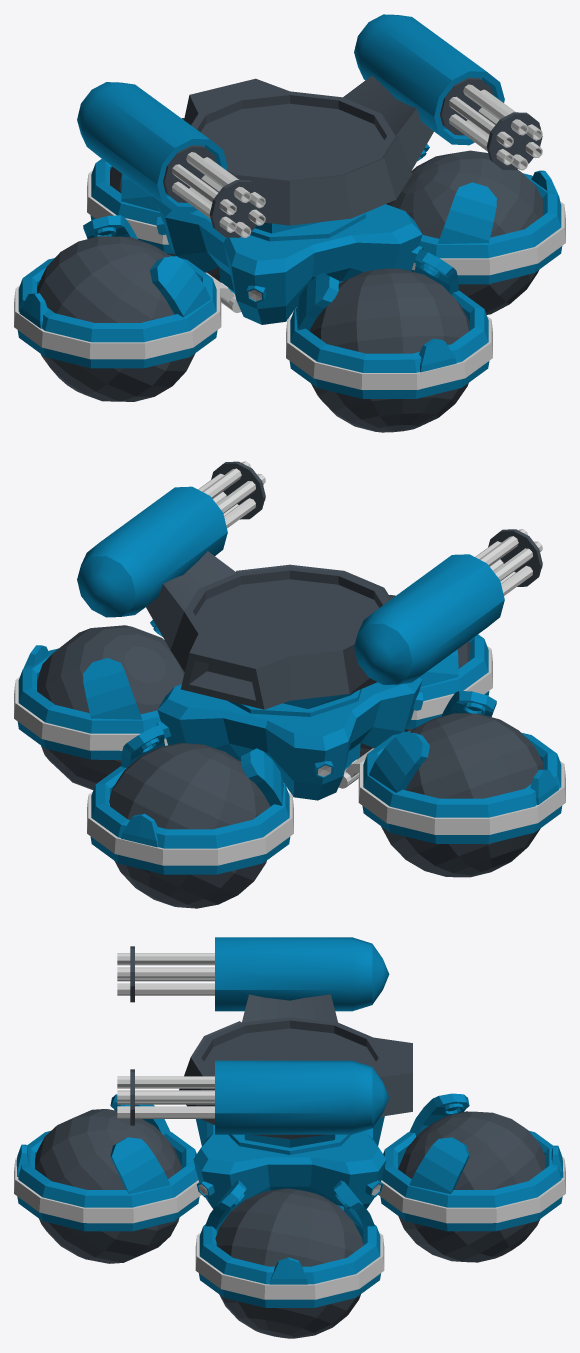
File: base+chainguns_v04.fbx
The picture shows the model from 3 angles, top to bottom: view 1: azimuth 30°, elevation 25°; view 2: azimuth 150°, elevation 25°; view 3: azimuth 270°, elevation 25°; orthographic projection. The views are drawn at different scales.
Parts seen in each view (by area): view 1: sphere_01 (×3), Rotater_body_01, roll_holder_01 (×4), body_01, roll_holder_02 (×4), shield_generator_01, Rotater_base_01, chaingun_holder_3, chaingun_holder_, chaingun_holder_1, chaingun_holder_2, chaingun_tube_1 (+5 smaller); view 2: Rotater_body_01, sphere_01 (×3), roll_holder_01 (×4), body_01, roll_holder_02 (×4), Rotater_base_01, chaingun_holder_3, chaingun_holder_, chaingun_tube_1, chaingun_tube_9; view 3: Rotater_body_01, sphere_01 (×3), roll_holder_01 (×3), roll_holder_02 (×3), body_01, Rotater_base_01, chaingun_tube_8, chaingun_tube_11, chaingun_tube_2, chaingun_tube_3, chaingun_tube_, chaingun_tube_6 (+1 smaller).
Part boxes in pixels (x1=…): sphere_01 (×3): x1=37, y1=150, x2=543, y2=432; Rotater_body_01: x1=77, y1=14, x2=504, y2=212; roll_holder_01 (×4): x1=17, y1=144, x2=562, y2=398; body_01: x1=157, y1=202, x2=422, y2=324; roll_holder_02 (×4): x1=14, y1=170, x2=565, y2=389; shield_generator_01: x1=236, y1=135, x2=412, y2=225; Rotater_base_01: x1=250, y1=212, x2=365, y2=241; chaingun_holder_3: x1=486, y1=112, x2=542, y2=170; chaingun_holder_: x1=209, y1=180, x2=265, y2=237; chaingun_holder_1: x1=163, y1=145, x2=216, y2=202; chaingun_holder_2: x1=440, y1=77, x2=493, y2=135; chaingun_tube_1: x1=172, y1=164, x2=236, y2=215; Rotater_body_01: x1=77, y1=486, x2=504, y2=709; sphere_01 (×3): x1=37, y1=625, x2=542, y2=908; roll_holder_01 (×4): x1=17, y1=620, x2=562, y2=874; body_01: x1=157, y1=677, x2=422, y2=800; roll_holder_02 (×4): x1=14, y1=646, x2=565, y2=865; Rotater_base_01: x1=228, y1=689, x2=361, y2=716; chaingun_holder_3: x1=211, y1=461, x2=265, y2=519; chaingun_holder_: x1=488, y1=529, x2=542, y2=586; chaingun_tube_1: x1=493, y1=541, x2=542, y2=581; chaingun_tube_9: x1=217, y1=473, x2=265, y2=513; Rotater_body_01: x1=194, y1=937, x2=412, y2=1138; sphere_01 (×3): x1=35, y1=1109, x2=544, y2=1338; roll_holder_01 (×3): x1=16, y1=1093, x2=563, y2=1307; roll_holder_02 (×3): x1=14, y1=1157, x2=565, y2=1299; body_01: x1=193, y1=1116, x2=386, y2=1208; Rotater_base_01: x1=228, y1=1134, x2=351, y2=1154; chaingun_tube_8: x1=117, y1=1090, x2=214, y2=1101; chaingun_tube_11: x1=117, y1=1106, x2=214, y2=1117; chaingun_tube_2: x1=117, y1=967, x2=214, y2=978; chaingun_tube_3: x1=117, y1=983, x2=214, y2=994; chaingun_tube_: x1=117, y1=953, x2=214, y2=963; chaingun_tube_6: x1=117, y1=1076, x2=214, y2=1086.
Size of the model in its own units: 9.5 by 4.81 by 9.5.
